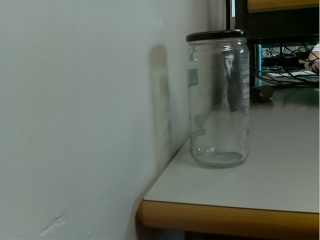pote cristal: (184, 28, 253, 169)
